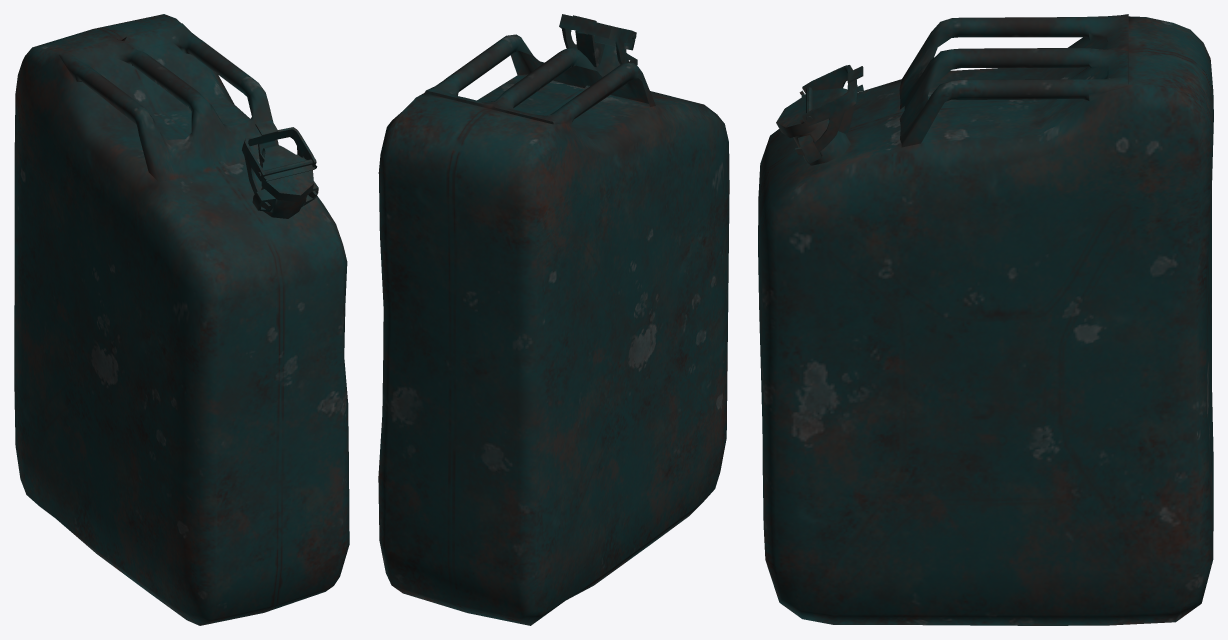
Rendered from gasoline_lp_new.glb.
3 renders of one model, left to right at view 1: azimuth 30°, elevation 25°; view 2: azimuth 150°, elevation 25°; view 3: azimuth 270°, elevation 25°, orthographic. The views are drawn at different scales.
Visible parts, largest first — view 1: Gasoline_body_low, Gasoline_cap_low; view 2: Gasoline_body_low, Gasoline_cap_low; view 3: Gasoline_body_low, Gasoline_cap_low.
Boxes of the visible parts, <box> form: Gasoline_body_low: <box>14,14,349,625</box>; Gasoline_cap_low: <box>242,120,317,209</box>; Gasoline_body_low: <box>378,34,729,625</box>; Gasoline_cap_low: <box>559,14,636,67</box>; Gasoline_body_low: <box>758,14,1213,625</box>; Gasoline_cap_low: <box>795,65,863,155</box>.
Bounding box in the file's own units: 0.1649 × 0.4598 × 0.3469.
Materials: 1 (1 with a texture image).
